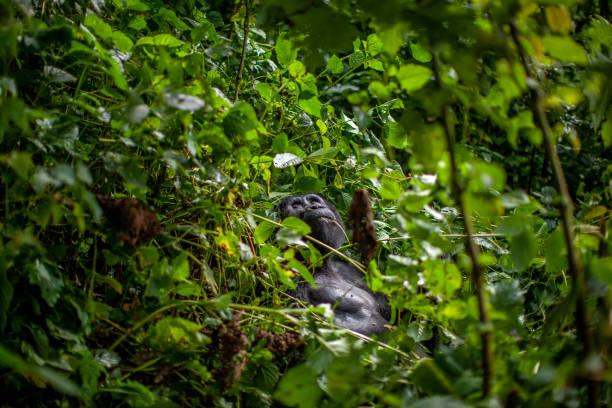goriile_montagne: (274, 178, 386, 335)
